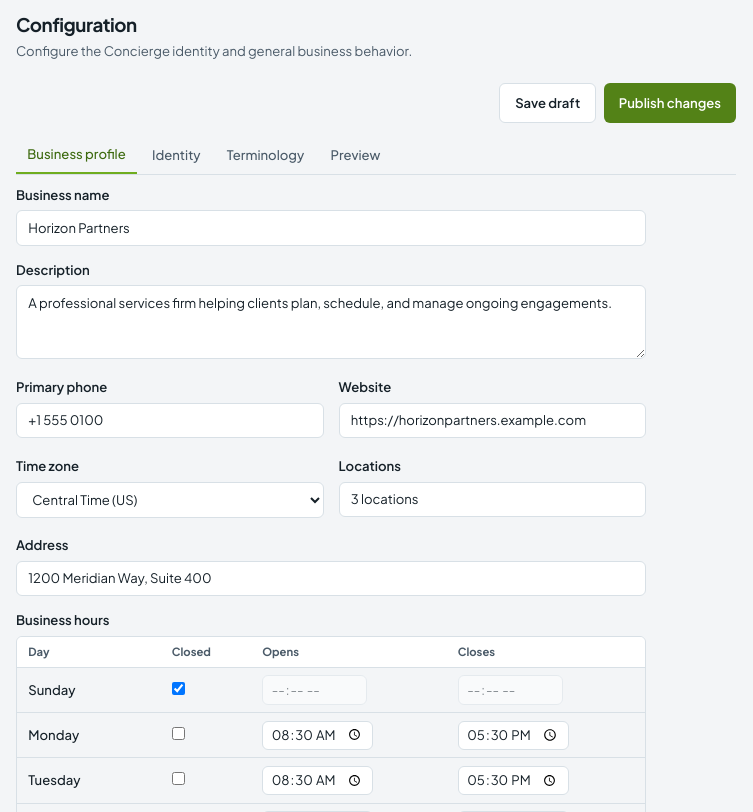
Test: ConfigurationPage › switches to the Identity tab and shows its fields
This screenshot has width=753, height=812.
Expected: the field showing "Horizon Partners" is shown, [16,210,646,246]
Click the tab "Identity".
click(176, 156)  # box [141,138,212,174]
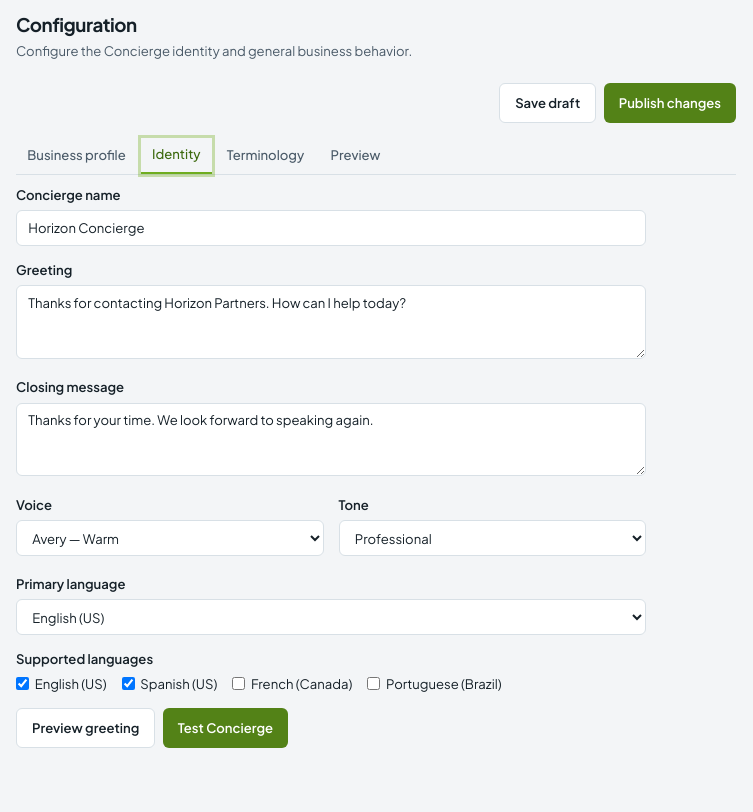
Result: the field showing "Horizon Concierge" is shown at [16,210,646,246]
